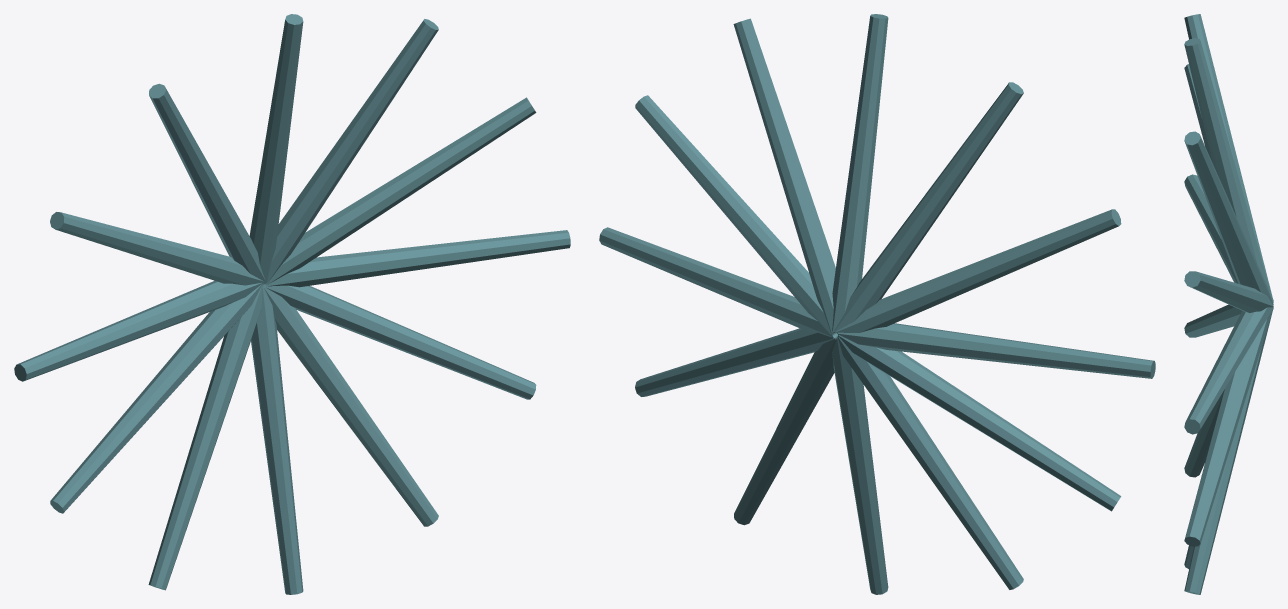
File: Akariz_Plant_Lichen_Fan.glb
3 renders of one model, left to right at view 1: azimuth 30°, elevation 25°; view 2: azimuth 150°, elevation 25°; view 3: azimuth 270°, elevation 25°, orthographic. The views are drawn at different scales.
Visible parts, largest first — view 1: Akariz_Plant_Lichen_Fan_root8, Akariz_Plant_Lichen_Fan_root1, Akariz_Plant_Lichen_Fan_root9, Akariz_Plant_Lichen_Fan_root0, Akariz_Plant_Lichen_Fan_root2, Akariz_Plant_Lichen_Fan_root7, Akariz_Plant_Lichen_Fan_root10, Akariz_Plant_Lichen_Fan_root11, Akariz_Plant_Lichen_Fan_root3, Akariz_Plant_Lichen_Fan_root6, Akariz_Plant_Lichen_Fan_root4, Akariz_Plant_Lichen_Fan_root5; view 2: Akariz_Plant_Lichen_Fan_root3, Akariz_Plant_Lichen_Fan_root6, Akariz_Plant_Lichen_Fan_root2, Akariz_Plant_Lichen_Fan_root7, Akariz_Plant_Lichen_Fan_root4, Akariz_Plant_Lichen_Fan_root5, Akariz_Plant_Lichen_Fan_root8, Akariz_Plant_Lichen_Fan_root1, Akariz_Plant_Lichen_Fan_root9, Akariz_Plant_Lichen_Fan_root0, Akariz_Plant_Lichen_Fan_root10, Akariz_Plant_Lichen_Fan_root11; view 3: Akariz_Plant_Lichen_Fan_root11, Akariz_Plant_Lichen_Fan_root3, Akariz_Plant_Lichen_Fan_root2, Akariz_Plant_Lichen_Fan_root0, Akariz_Plant_Lichen_Fan_root10, Akariz_Plant_Lichen_Fan_root1, Akariz_Plant_Lichen_Fan_root4, Akariz_Plant_Lichen_Fan_root6, Akariz_Plant_Lichen_Fan_root8, Akariz_Plant_Lichen_Fan_root7, Akariz_Plant_Lichen_Fan_root5.
Boxes of the visible parts, left/top/right/bottom form: Akariz_Plant_Lichen_Fan_root8: left=148, top=284, right=263, bottom=590; Akariz_Plant_Lichen_Fan_root1: left=264, top=97, right=536, bottom=284; Akariz_Plant_Lichen_Fan_root9: left=251, top=284, right=303, bottom=594; Akariz_Plant_Lichen_Fan_root0: left=265, top=230, right=570, bottom=287; Akariz_Plant_Lichen_Fan_root2: left=265, top=19, right=438, bottom=283; Akariz_Plant_Lichen_Fan_root7: left=50, top=284, right=263, bottom=513; Akariz_Plant_Lichen_Fan_root10: left=263, top=285, right=438, bottom=526; Akariz_Plant_Lichen_Fan_root11: left=264, top=284, right=536, bottom=399; Akariz_Plant_Lichen_Fan_root3: left=249, top=14, right=303, bottom=283; Akariz_Plant_Lichen_Fan_root6: left=14, top=280, right=263, bottom=381; Akariz_Plant_Lichen_Fan_root4: left=149, top=83, right=265, bottom=283; Akariz_Plant_Lichen_Fan_root5: left=50, top=212, right=264, bottom=285; Akariz_Plant_Lichen_Fan_root3: left=832, top=14, right=888, bottom=331; Akariz_Plant_Lichen_Fan_root6: left=838, top=323, right=1155, bottom=378; Akariz_Plant_Lichen_Fan_root2: left=733, top=18, right=835, bottom=332; Akariz_Plant_Lichen_Fan_root7: left=837, top=335, right=1121, bottom=511; Akariz_Plant_Lichen_Fan_root4: left=834, top=82, right=1023, bottom=332; Akariz_Plant_Lichen_Fan_root5: left=836, top=209, right=1121, bottom=334; Akariz_Plant_Lichen_Fan_root8: left=836, top=336, right=1023, bottom=589; Akariz_Plant_Lichen_Fan_root1: left=635, top=95, right=835, bottom=335; Akariz_Plant_Lichen_Fan_root9: left=832, top=335, right=888, bottom=594; Akariz_Plant_Lichen_Fan_root0: left=599, top=227, right=835, bottom=337; Akariz_Plant_Lichen_Fan_root10: left=734, top=334, right=837, bottom=525; Akariz_Plant_Lichen_Fan_root11: left=635, top=328, right=836, bottom=396; Akariz_Plant_Lichen_Fan_root11: left=1184, top=308, right=1273, bottom=546; Akariz_Plant_Lichen_Fan_root3: left=1184, top=38, right=1273, bottom=302; Akariz_Plant_Lichen_Fan_root2: left=1184, top=131, right=1273, bottom=304; Akariz_Plant_Lichen_Fan_root0: left=1184, top=307, right=1273, bottom=434; Akariz_Plant_Lichen_Fan_root10: left=1184, top=314, right=1271, bottom=594; Akariz_Plant_Lichen_Fan_root1: left=1184, top=271, right=1273, bottom=312; Akariz_Plant_Lichen_Fan_root4: left=1184, top=14, right=1273, bottom=300; Akariz_Plant_Lichen_Fan_root6: left=1184, top=174, right=1273, bottom=301; Akariz_Plant_Lichen_Fan_root8: left=1184, top=389, right=1224, bottom=477; Akariz_Plant_Lichen_Fan_root7: left=1184, top=304, right=1241, bottom=337; Akariz_Plant_Lichen_Fan_root5: left=1184, top=64, right=1273, bottom=300.
Bounding box in the file's own units: 1.71 × 1.71 × 0.2623.
